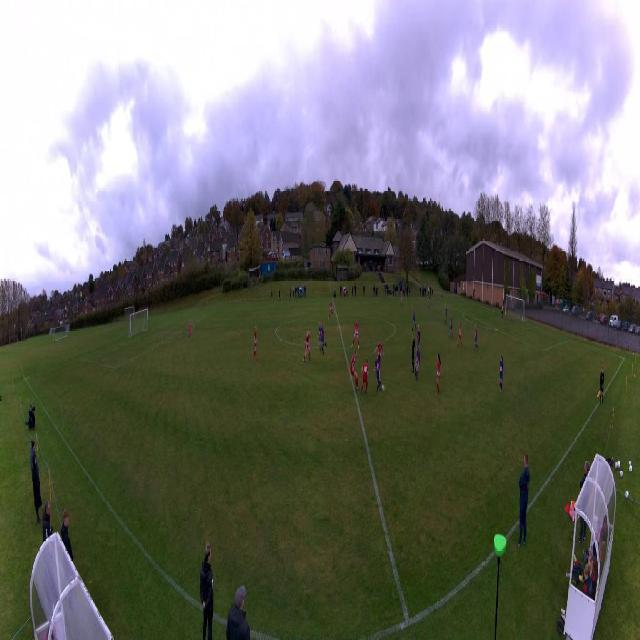ball: (382, 385, 385, 391)
player: (350, 350, 359, 391), (373, 354, 382, 393), (317, 322, 327, 356), (360, 358, 369, 394), (351, 317, 361, 349), (303, 329, 311, 365), (410, 336, 416, 374), (415, 344, 421, 382), (498, 355, 504, 392), (436, 354, 441, 395), (375, 339, 384, 361), (253, 326, 257, 360), (328, 301, 335, 320), (458, 322, 463, 348), (412, 307, 417, 331), (474, 324, 478, 352), (449, 313, 453, 339), (417, 325, 422, 345), (188, 320, 192, 341), (444, 305, 447, 326), (400, 291, 403, 307), (428, 294, 430, 310), (501, 304, 503, 320)
